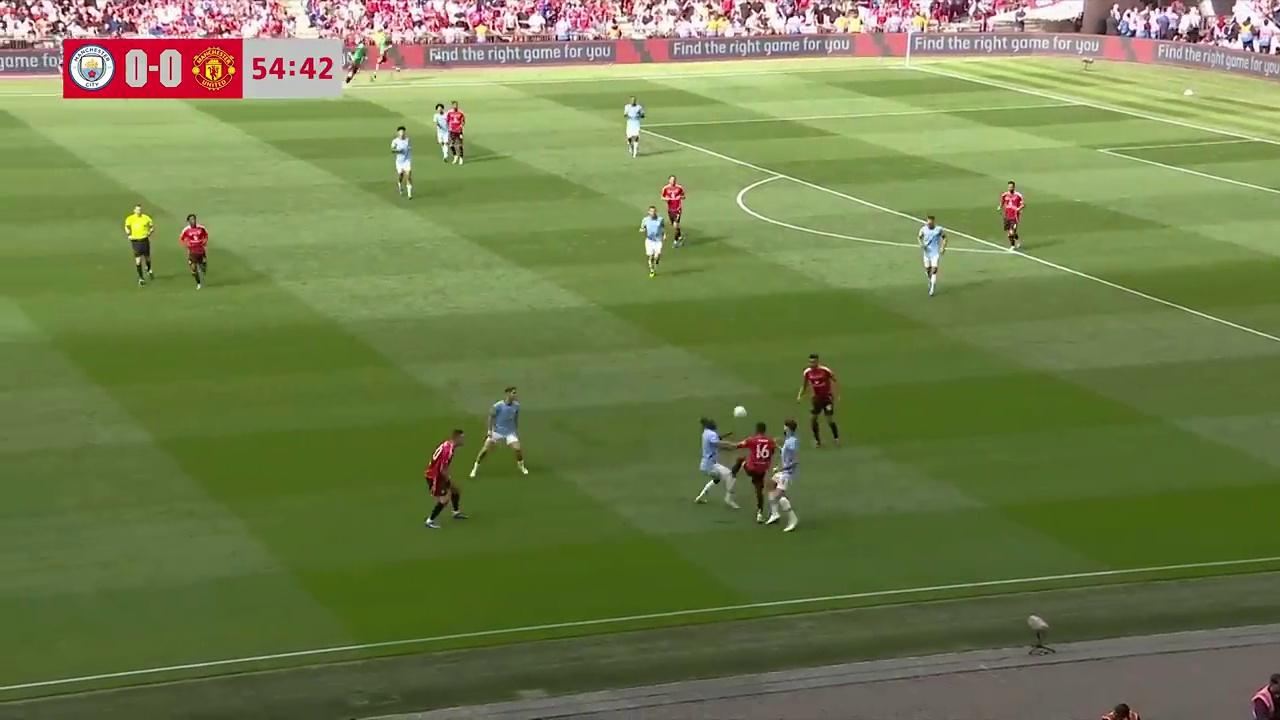ball: (731, 401, 748, 419)
player: (470, 387, 529, 478), (729, 421, 779, 518), (423, 429, 470, 529), (693, 417, 743, 507), (758, 421, 798, 531), (796, 354, 841, 447), (919, 215, 946, 297), (179, 213, 208, 289), (639, 204, 666, 278), (998, 181, 1024, 250), (662, 175, 686, 249), (390, 125, 412, 198), (623, 96, 644, 157), (446, 103, 466, 165), (432, 103, 450, 156)
referee: (123, 203, 155, 287)
